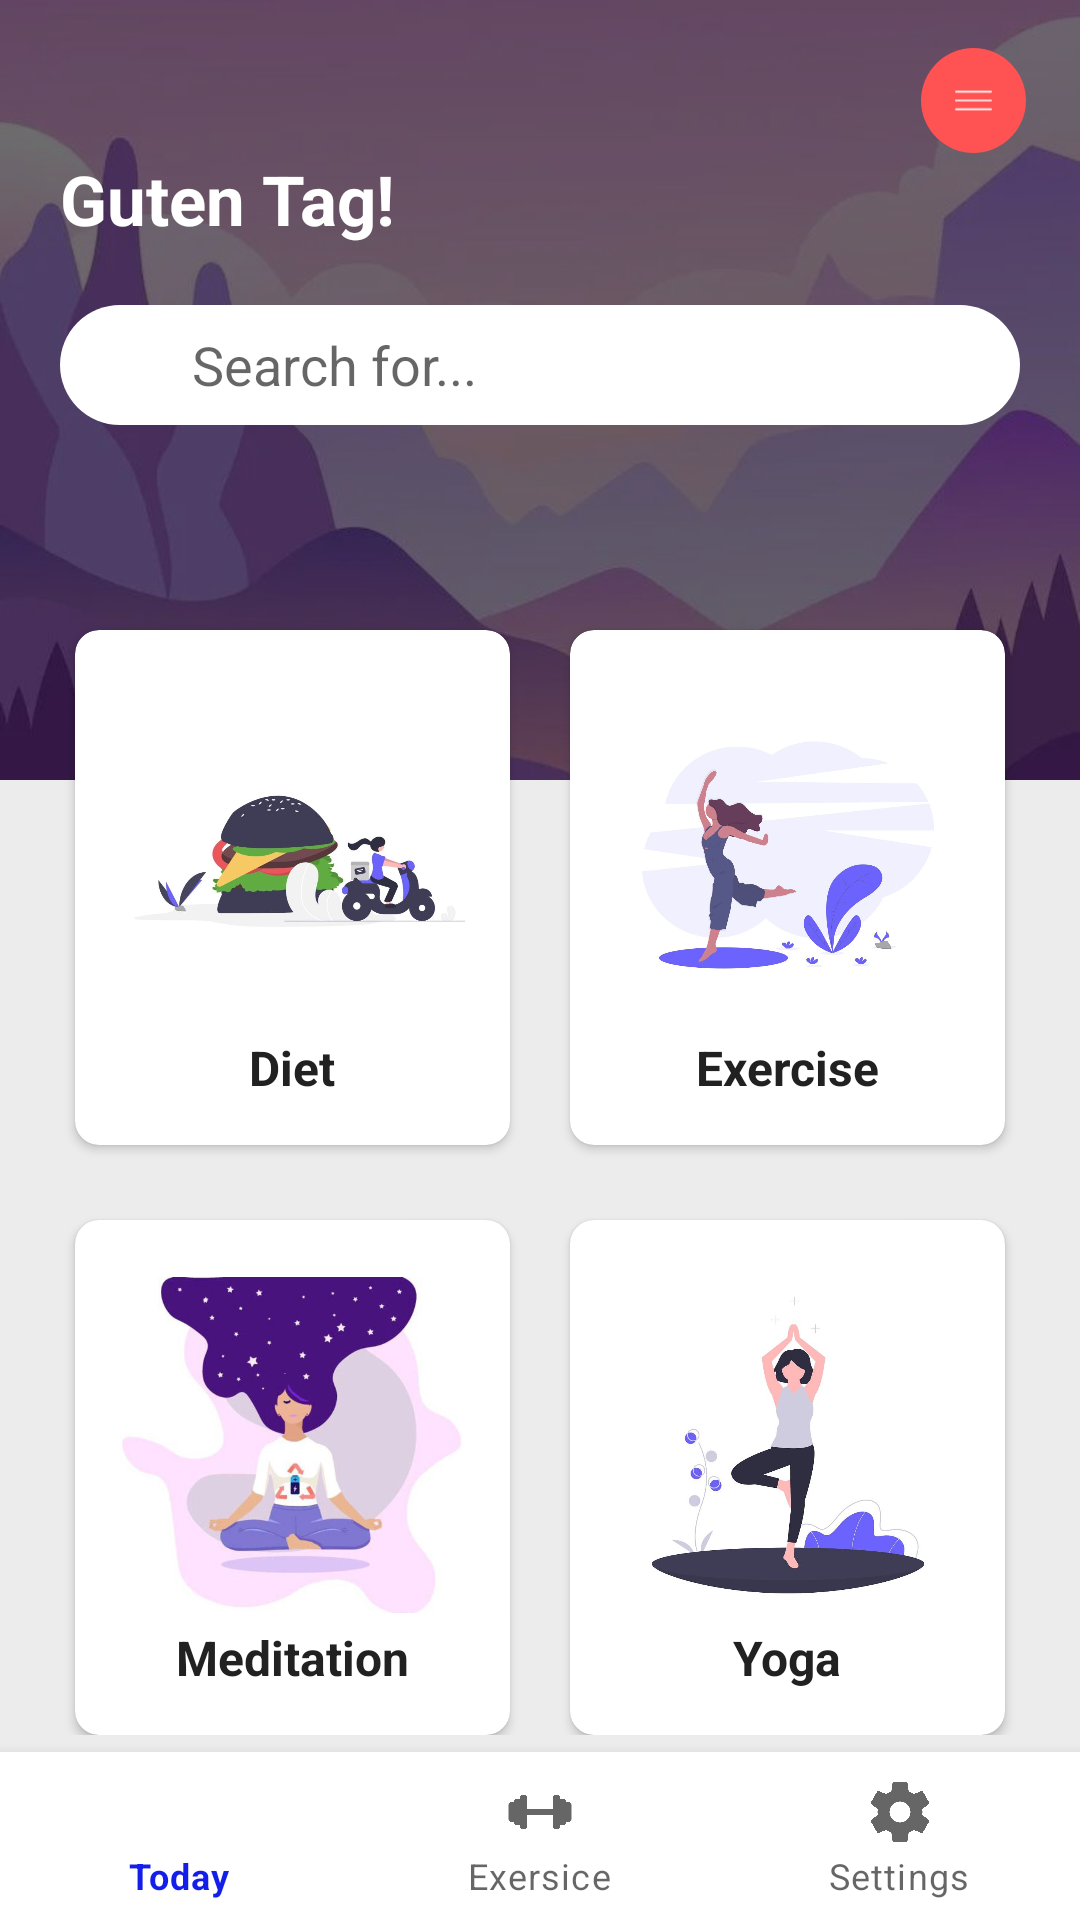

Where to tap for icons on this 1080*1920 app screen, as (x=x, y=y):
hamburger menu: (x=973, y=100)
